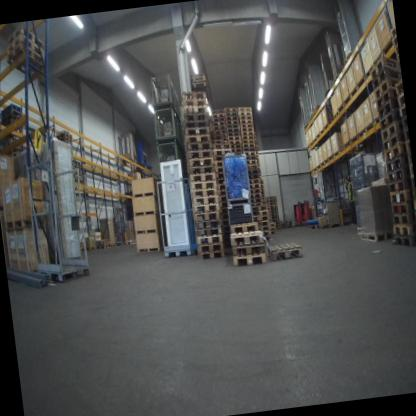pallet: (2, 40, 50, 85), (2, 21, 45, 56), (6, 34, 45, 64), (365, 53, 400, 80), (265, 238, 303, 261), (367, 66, 401, 90), (359, 228, 397, 247), (375, 119, 403, 142), (229, 241, 263, 258), (373, 87, 397, 110), (231, 232, 263, 248), (384, 166, 410, 185), (382, 139, 405, 160), (372, 78, 398, 96), (375, 102, 400, 120), (383, 153, 408, 171), (377, 110, 401, 128), (229, 220, 259, 234), (232, 254, 267, 266), (186, 162, 215, 176), (389, 187, 411, 205), (379, 134, 405, 149), (188, 180, 218, 193), (185, 148, 212, 162), (384, 179, 413, 192), (190, 203, 221, 215), (194, 234, 222, 247), (2, 120, 22, 138), (193, 228, 222, 240), (394, 234, 415, 250), (182, 119, 210, 131), (183, 141, 211, 153), (191, 220, 221, 231), (195, 251, 225, 262), (191, 195, 218, 207), (191, 212, 220, 223), (0, 137, 24, 150), (182, 91, 208, 103), (390, 222, 412, 236), (196, 242, 224, 253), (0, 104, 23, 117), (184, 133, 211, 144), (189, 188, 216, 199), (186, 157, 212, 168), (180, 112, 208, 122), (388, 202, 411, 214), (180, 103, 205, 114), (1, 110, 22, 123), (7, 149, 24, 164), (179, 97, 207, 106), (188, 174, 216, 183), (391, 213, 413, 224), (183, 126, 209, 135), (53, 131, 73, 142), (342, 49, 355, 65), (237, 104, 253, 116), (189, 72, 206, 83), (253, 202, 270, 212), (189, 80, 207, 89), (95, 243, 112, 251), (74, 175, 86, 186), (250, 193, 262, 204), (396, 91, 404, 106), (212, 142, 228, 149), (239, 121, 253, 129), (331, 73, 341, 84), (399, 104, 406, 119), (212, 133, 227, 140), (238, 114, 253, 121), (252, 214, 267, 221), (223, 106, 237, 113), (211, 138, 227, 144), (210, 107, 223, 114), (226, 135, 239, 142), (401, 116, 407, 131), (211, 129, 226, 135), (312, 105, 321, 115), (240, 130, 255, 136), (403, 128, 409, 142), (59, 136, 71, 143), (224, 115, 238, 121), (238, 111, 252, 117), (228, 147, 240, 154), (72, 158, 81, 167), (322, 91, 331, 100), (213, 149, 223, 157), (211, 120, 224, 126), (212, 124, 225, 130), (226, 123, 239, 129), (226, 131, 239, 137), (228, 144, 241, 150), (242, 138, 255, 144), (404, 142, 411, 153), (213, 155, 224, 162), (247, 167, 258, 174), (249, 183, 260, 190), (258, 210, 269, 217), (243, 146, 255, 152), (249, 189, 261, 195), (213, 161, 223, 168), (223, 111, 237, 116), (238, 118, 252, 123), (241, 135, 255, 140), (249, 177, 259, 184), (406, 154, 412, 165), (308, 111, 314, 122), (211, 113, 224, 118), (211, 116, 224, 121), (225, 119, 238, 124), (226, 127, 239, 132), (240, 127, 253, 132), (215, 172, 223, 180), (262, 231, 270, 239), (259, 220, 268, 227), (247, 160, 257, 166), (74, 170, 82, 177), (218, 197, 226, 204), (302, 122, 310, 129), (411, 184, 416, 195), (228, 140, 239, 145), (215, 167, 224, 173), (409, 165, 413, 178), (243, 143, 256, 147), (245, 151, 255, 156), (217, 190, 224, 197), (413, 209, 416, 225), (72, 163, 80, 169), (219, 203, 227, 209), (249, 173, 258, 178), (260, 227, 269, 232), (412, 197, 416, 208), (217, 184, 223, 191), (220, 214, 227, 220), (216, 180, 224, 185), (247, 164, 257, 168), (221, 220, 227, 226), (246, 155, 255, 159), (220, 209, 227, 214), (268, 222, 276, 226), (268, 225, 276, 229), (270, 230, 275, 234)
pallet_truck: (299, 197, 315, 225), (292, 198, 303, 228)
